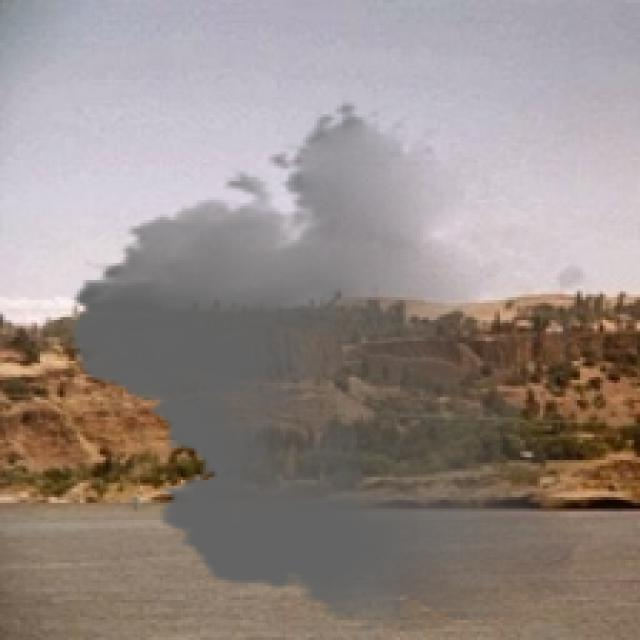smoke: (51, 100, 612, 631)
